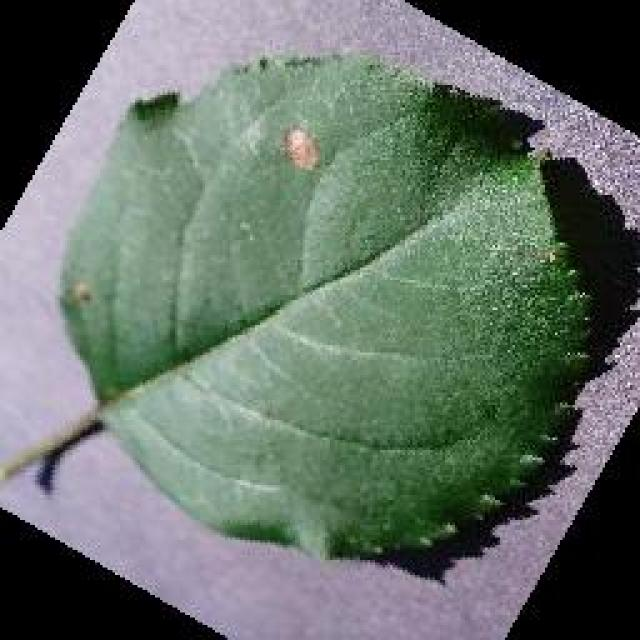Black_rot: (55, 50, 595, 560)
